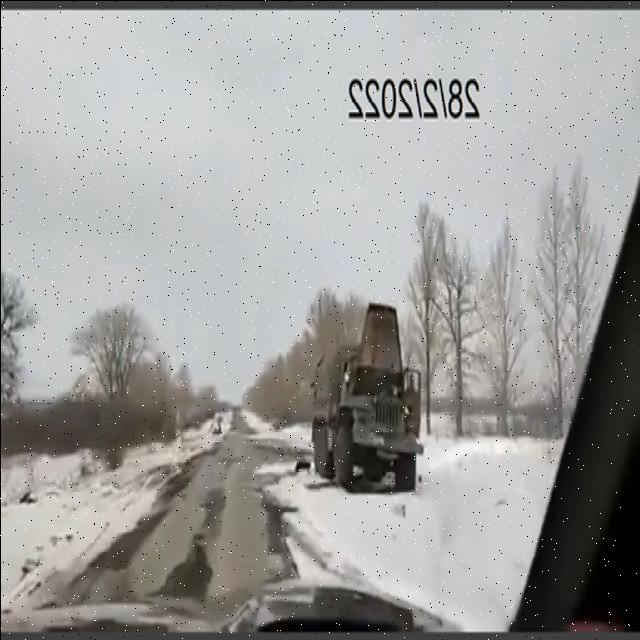TRUCK: (308, 296, 424, 494)
